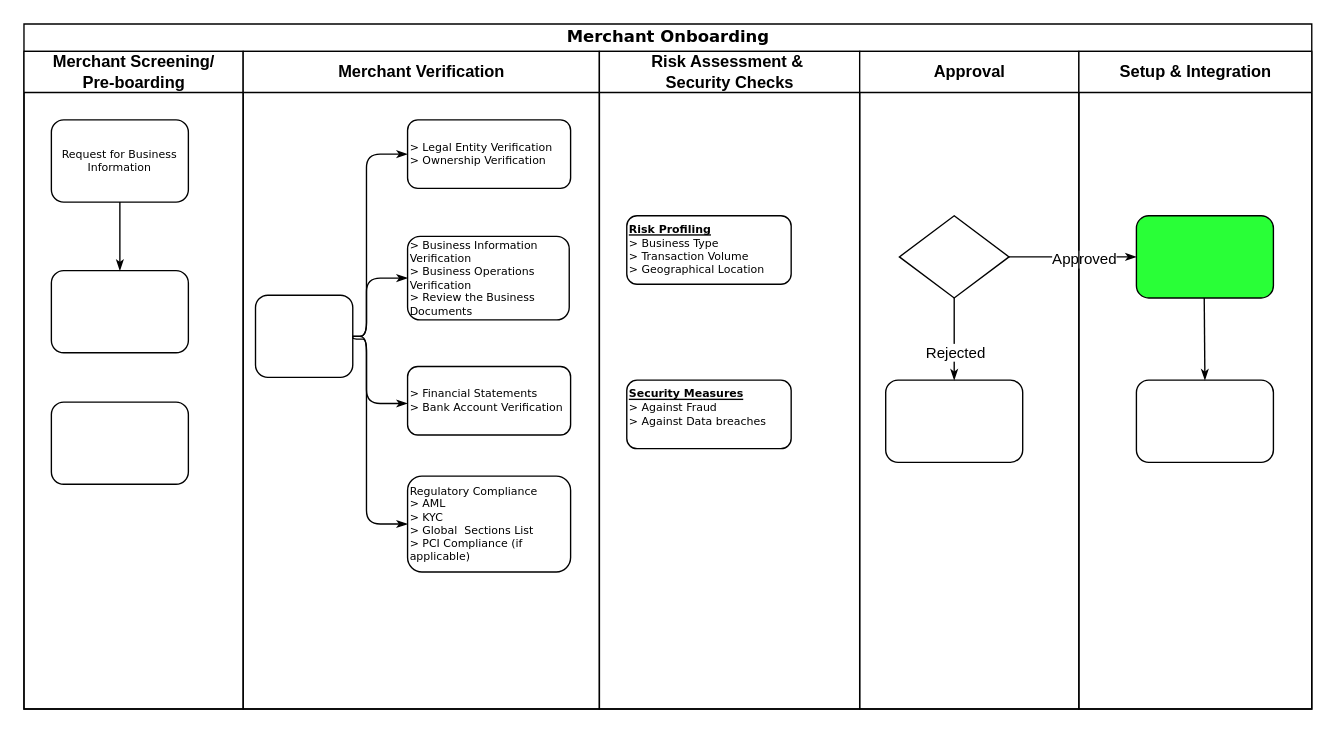
Some shapes in this 1336 by 733 pixel diagram are drawn without their labels. Here are the shapes that lost their labels. From the top down, the centre of each, then its label:
At point (953, 256): "Approve?".
At point (1204, 256): "Onboard Merchant > Account Setup > Configuration".
At point (119, 311): "Merchant provides Business information to Sales".
At point (303, 335): "Merchant Check".
At point (953, 420): "Decline & Close".
At point (1204, 420): "> Technical Integration > API Documentation > Training & Testing".
At point (119, 442): "Share Business Information to Verification team".
